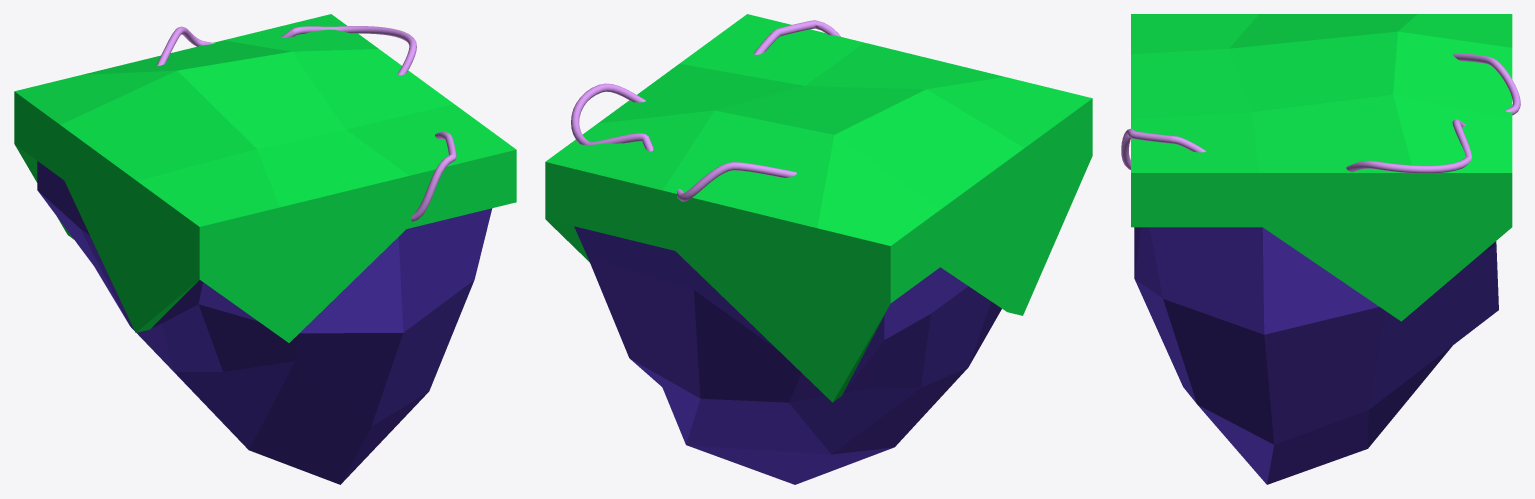
Rendered from ground3.fbx.
3 views of the same model, side by side, from view 1: azimuth 30°, elevation 25°; view 2: azimuth 150°, elevation 25°; view 3: azimuth 270°, elevation 25° (orthographic). The views are drawn at different scales.
Visible parts, largest first — view 1: BezierCurve.003; view 2: BezierCurve.003; view 3: BezierCurve.003.
Part boxes in pixels (x1,y1,x2,y2): BezierCurve.003: (14,14,516,484); BezierCurve.003: (545,14,1092,484); BezierCurve.003: (1121,14,1520,484).
Size of the model in its own units: 510 by 564 by 507.
